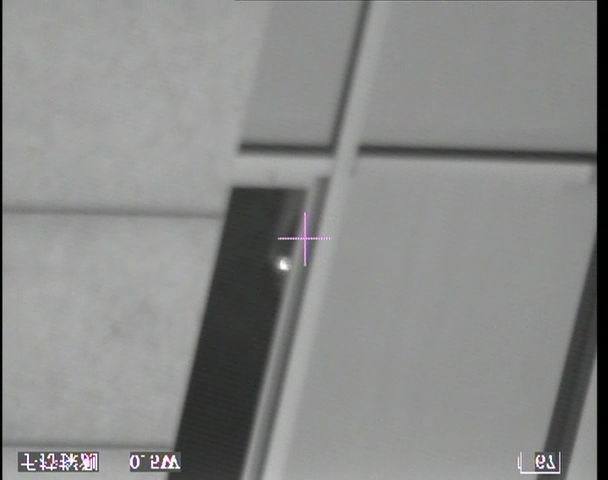my: (278, 255, 294, 271)
